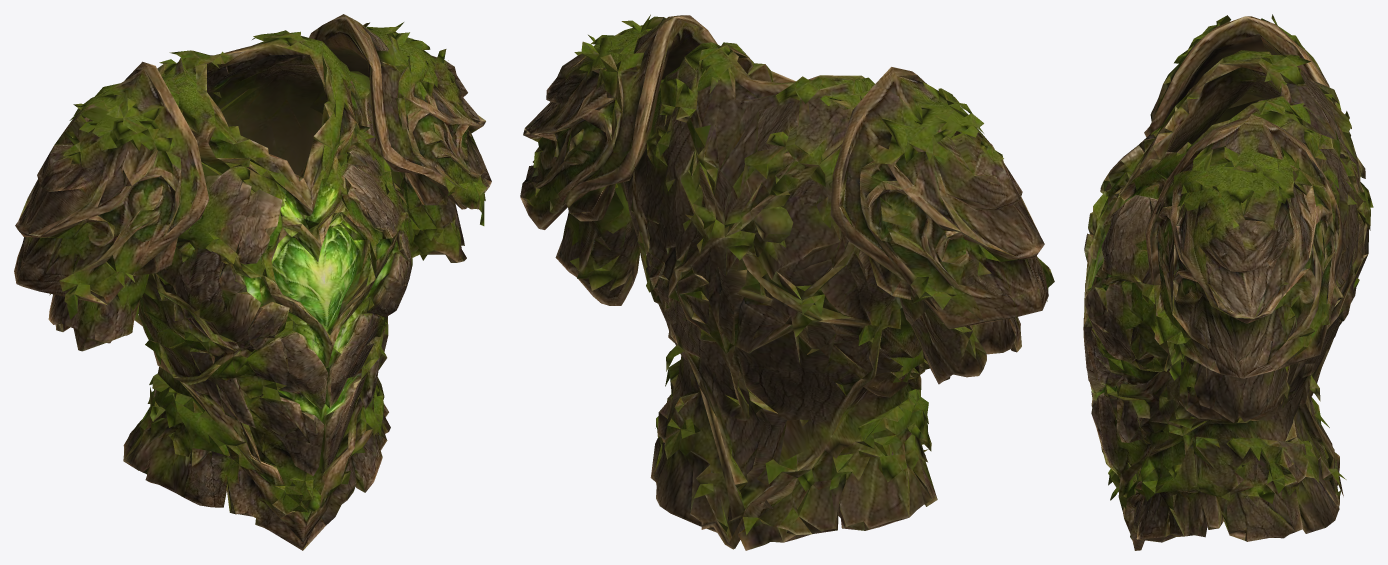
Rendered from named-mossheart_aegis.glb.
3 renders of one model, left to right at view 1: azimuth 30°, elevation 25°; view 2: azimuth 150°, elevation 25°; view 3: azimuth 270°, elevation 25°, orthographic. The views are drawn at different scales.
Size of the model in its own units: 2 by 1.91 by 1.03.
1 material, 1 textured.
